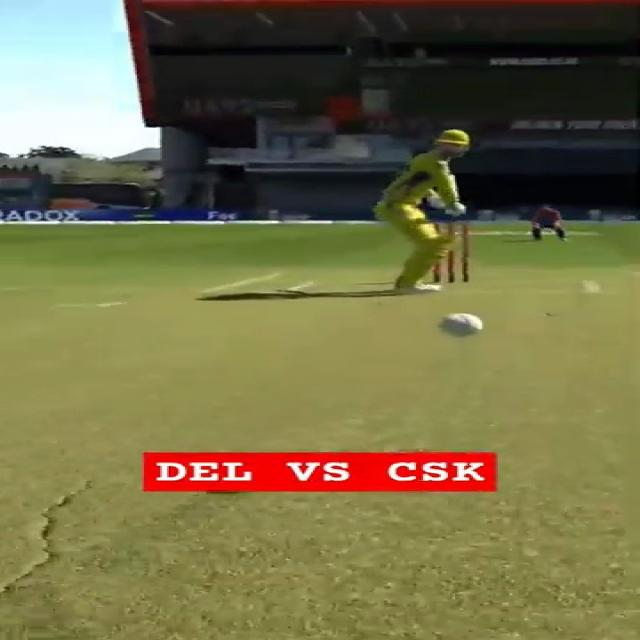ball: (441, 312, 484, 338)
